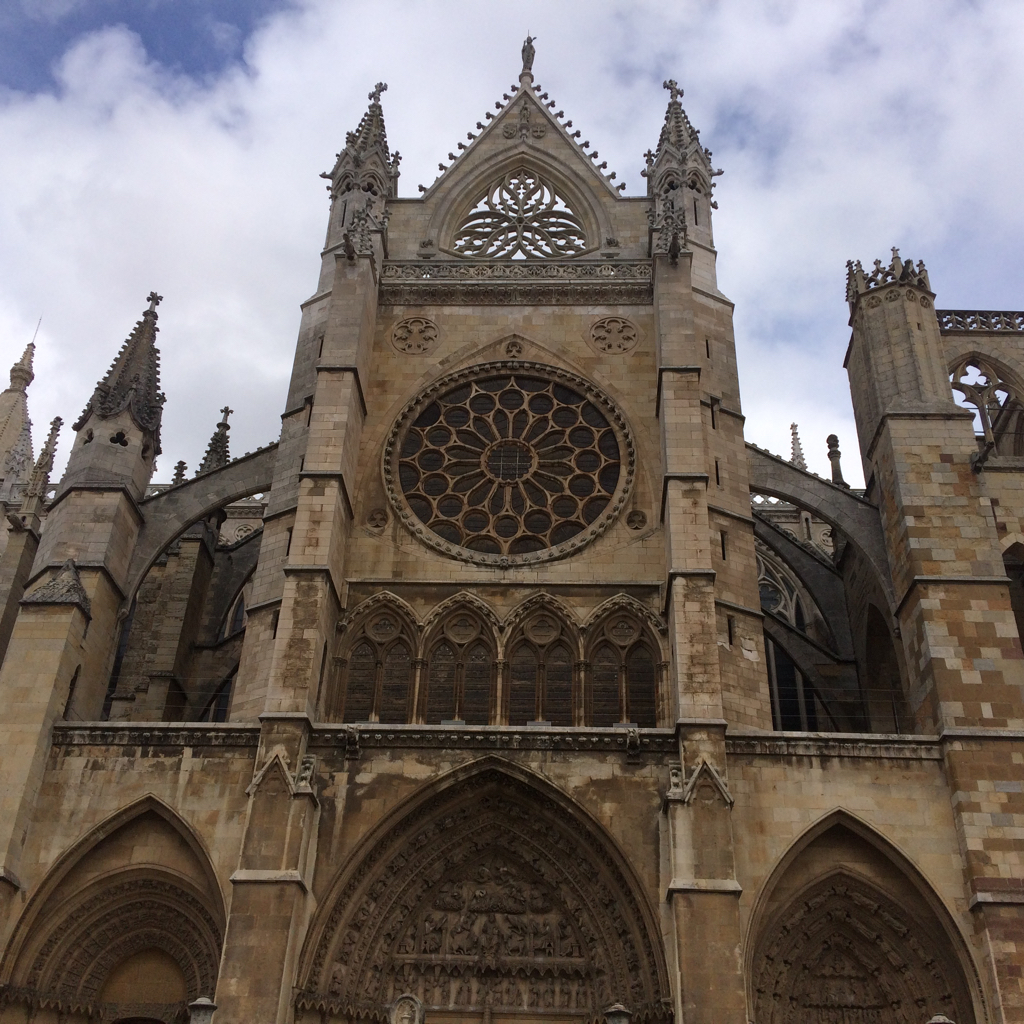arco-apuntado: (305, 744, 666, 990), (727, 801, 989, 1004), (5, 793, 234, 983), (440, 146, 609, 248), (583, 592, 661, 664), (336, 593, 417, 662), (415, 590, 495, 657), (500, 593, 579, 659)
pinaculo-gotico: (90, 277, 174, 415), (324, 75, 401, 188), (643, 68, 709, 173)
